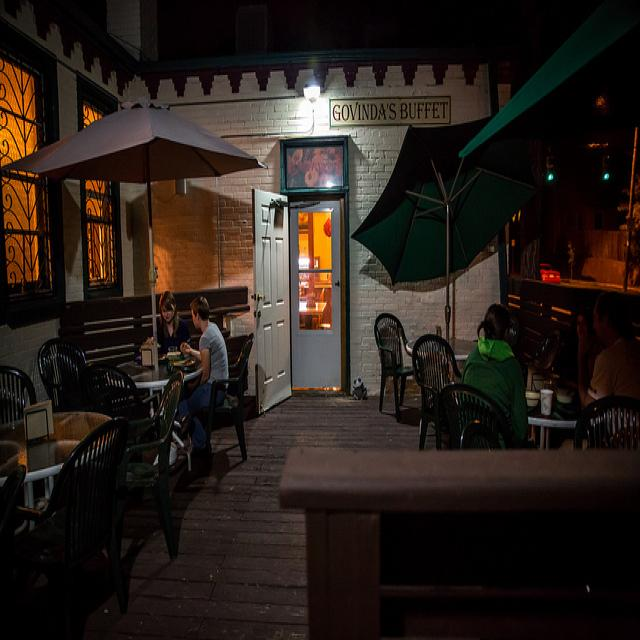People: (584, 274, 637, 423), (148, 267, 186, 402), (474, 299, 523, 397), (555, 285, 594, 388), (191, 277, 213, 416)
Table: (280, 429, 640, 640), (0, 398, 144, 522), (82, 339, 212, 400), (516, 365, 596, 459)
chair: (48, 424, 149, 640), (146, 385, 206, 570), (422, 378, 518, 485), (404, 314, 469, 437), (566, 381, 640, 474), (234, 330, 284, 463), (0, 346, 44, 472), (35, 325, 102, 404), (377, 295, 420, 409)
